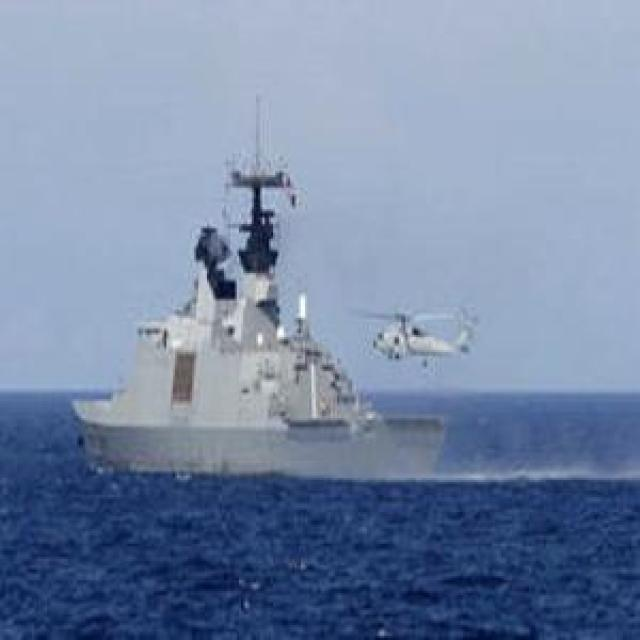sailboat: (70, 111, 486, 512)
